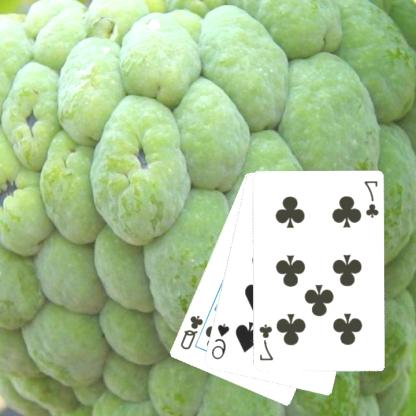7C: (363, 178, 381, 219), (258, 322, 276, 362)
9S: (210, 321, 232, 361)
QC: (178, 313, 206, 351)
